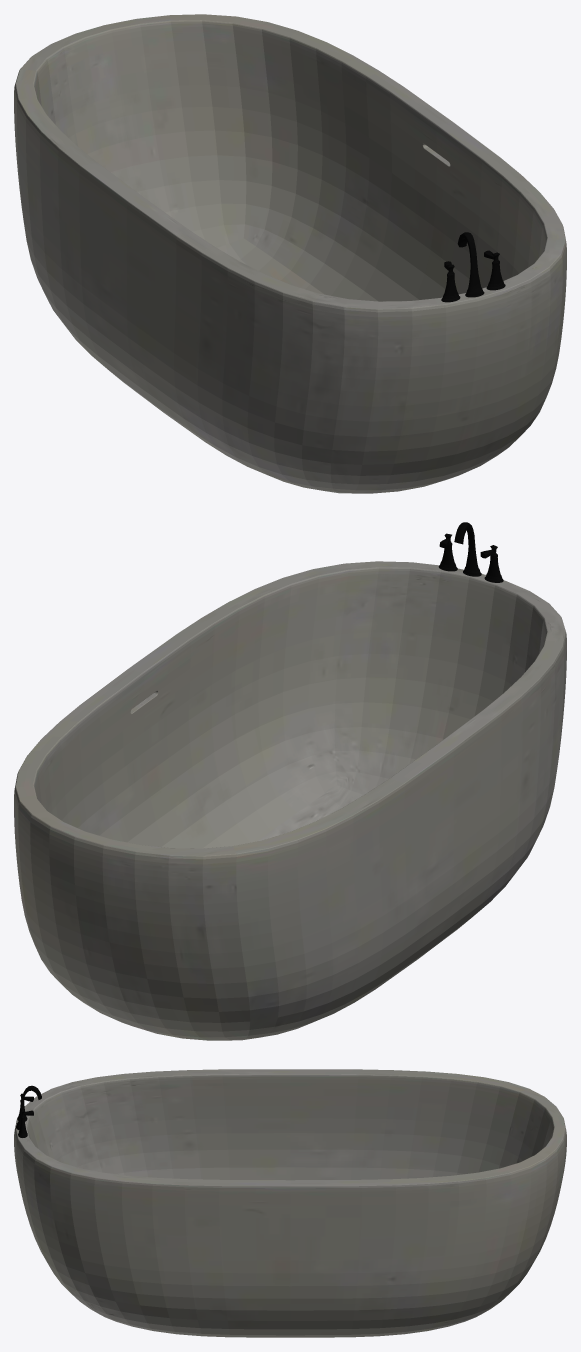
Rendered from bath.glb.
3 renders of one model, top to bottom at view 1: azimuth 30°, elevation 25°; view 2: azimuth 150°, elevation 25°; view 3: azimuth 270°, elevation 25°, orthographic. The views are drawn at different scales.
Parts seen in each view (by area): view 1: Circle.010; view 2: Circle.010; view 3: Circle.010.
Boxes of the visible parts, x1,y1,x2,y2 form: Circle.010: [14, 14, 566, 493]; Circle.010: [14, 522, 566, 1040]; Circle.010: [14, 1069, 566, 1337].
Bounding box in the file's own units: 0.7424 × 0.6367 × 1.48.
Materials: 2 (1 with a texture image).
